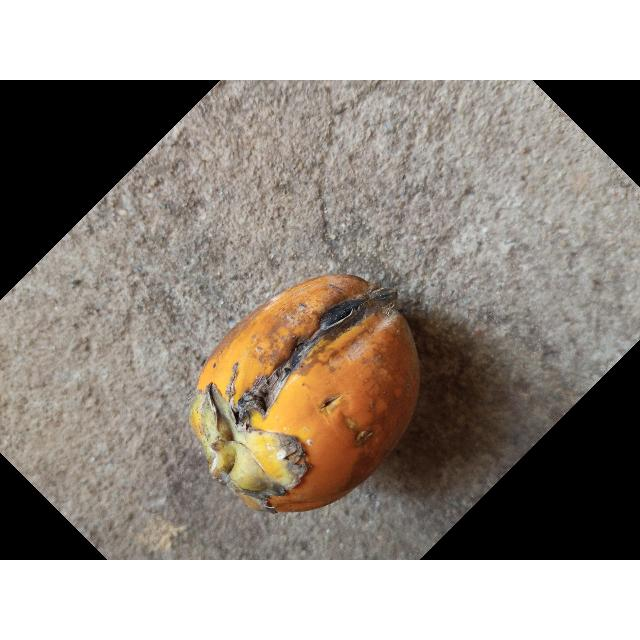damaged: (189, 274, 420, 515)
